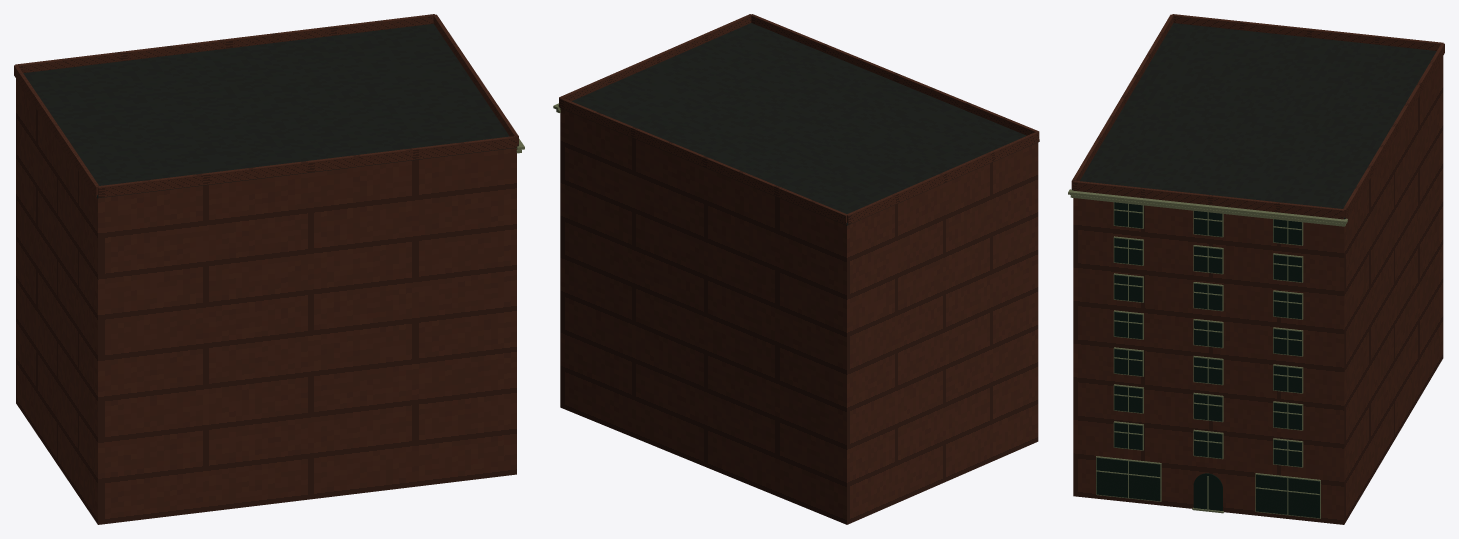
3 renders of one model, left to right at view 1: azimuth 30°, elevation 25°; view 2: azimuth 150°, elevation 25°; view 3: azimuth 270°, elevation 25°, orthographic. The views are drawn at different scales.
Parts seen in each view (by area): view 1: van-nelle-leuvehaven-0, van-nelle-leuvehaven-1; view 2: van-nelle-leuvehaven-0, van-nelle-leuvehaven-1; view 3: van-nelle-leuvehaven-0, van-nelle-leuvehaven-1, van-nelle-leuvehaven-3, van-nelle-leuvehaven-2.
Boxes of the visible parts, x1,y1,x2,y2 form: van-nelle-leuvehaven-0: (14,14,518,524); van-nelle-leuvehaven-1: (23,23,518,198); van-nelle-leuvehaven-0: (559,14,1039,524); van-nelle-leuvehaven-1: (558,23,1039,225); van-nelle-leuvehaven-0: (1071,14,1444,524); van-nelle-leuvehaven-1: (1072,23,1436,219); van-nelle-leuvehaven-3: (1096,202,1319,518); van-nelle-leuvehaven-2: (1068,189,1347,518).
Size of the model in its own units: 40.57 by 29.95 by 32.46.
Materials: 4 (4 with a texture image).
